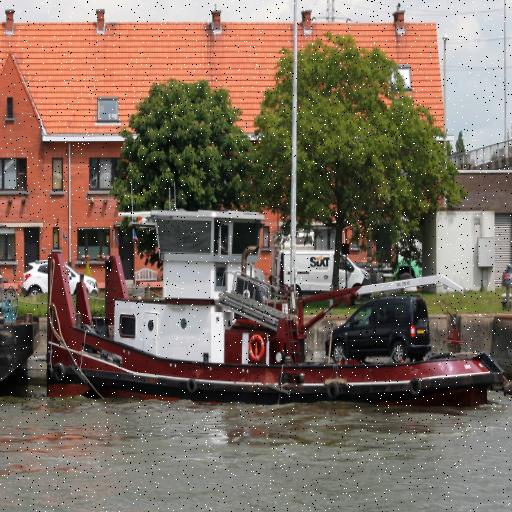tugboat: (42, 203, 512, 422)
